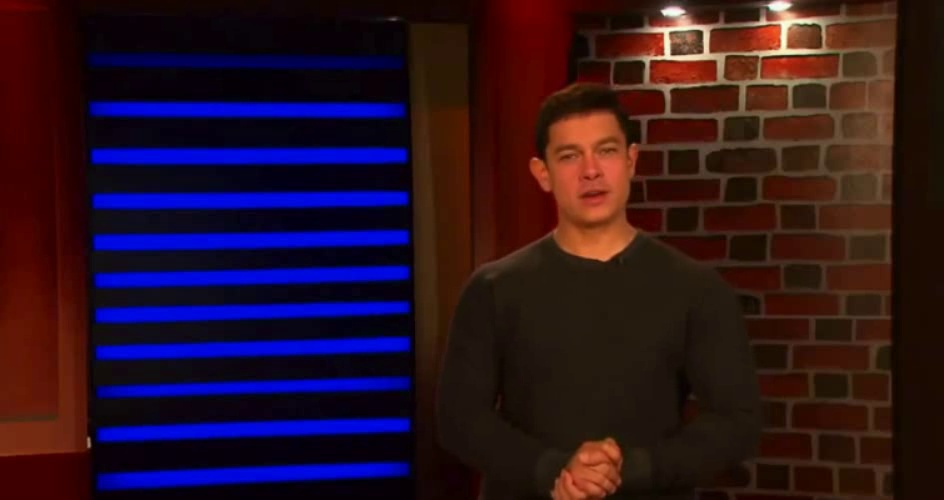fake: (547, 111, 628, 221)
